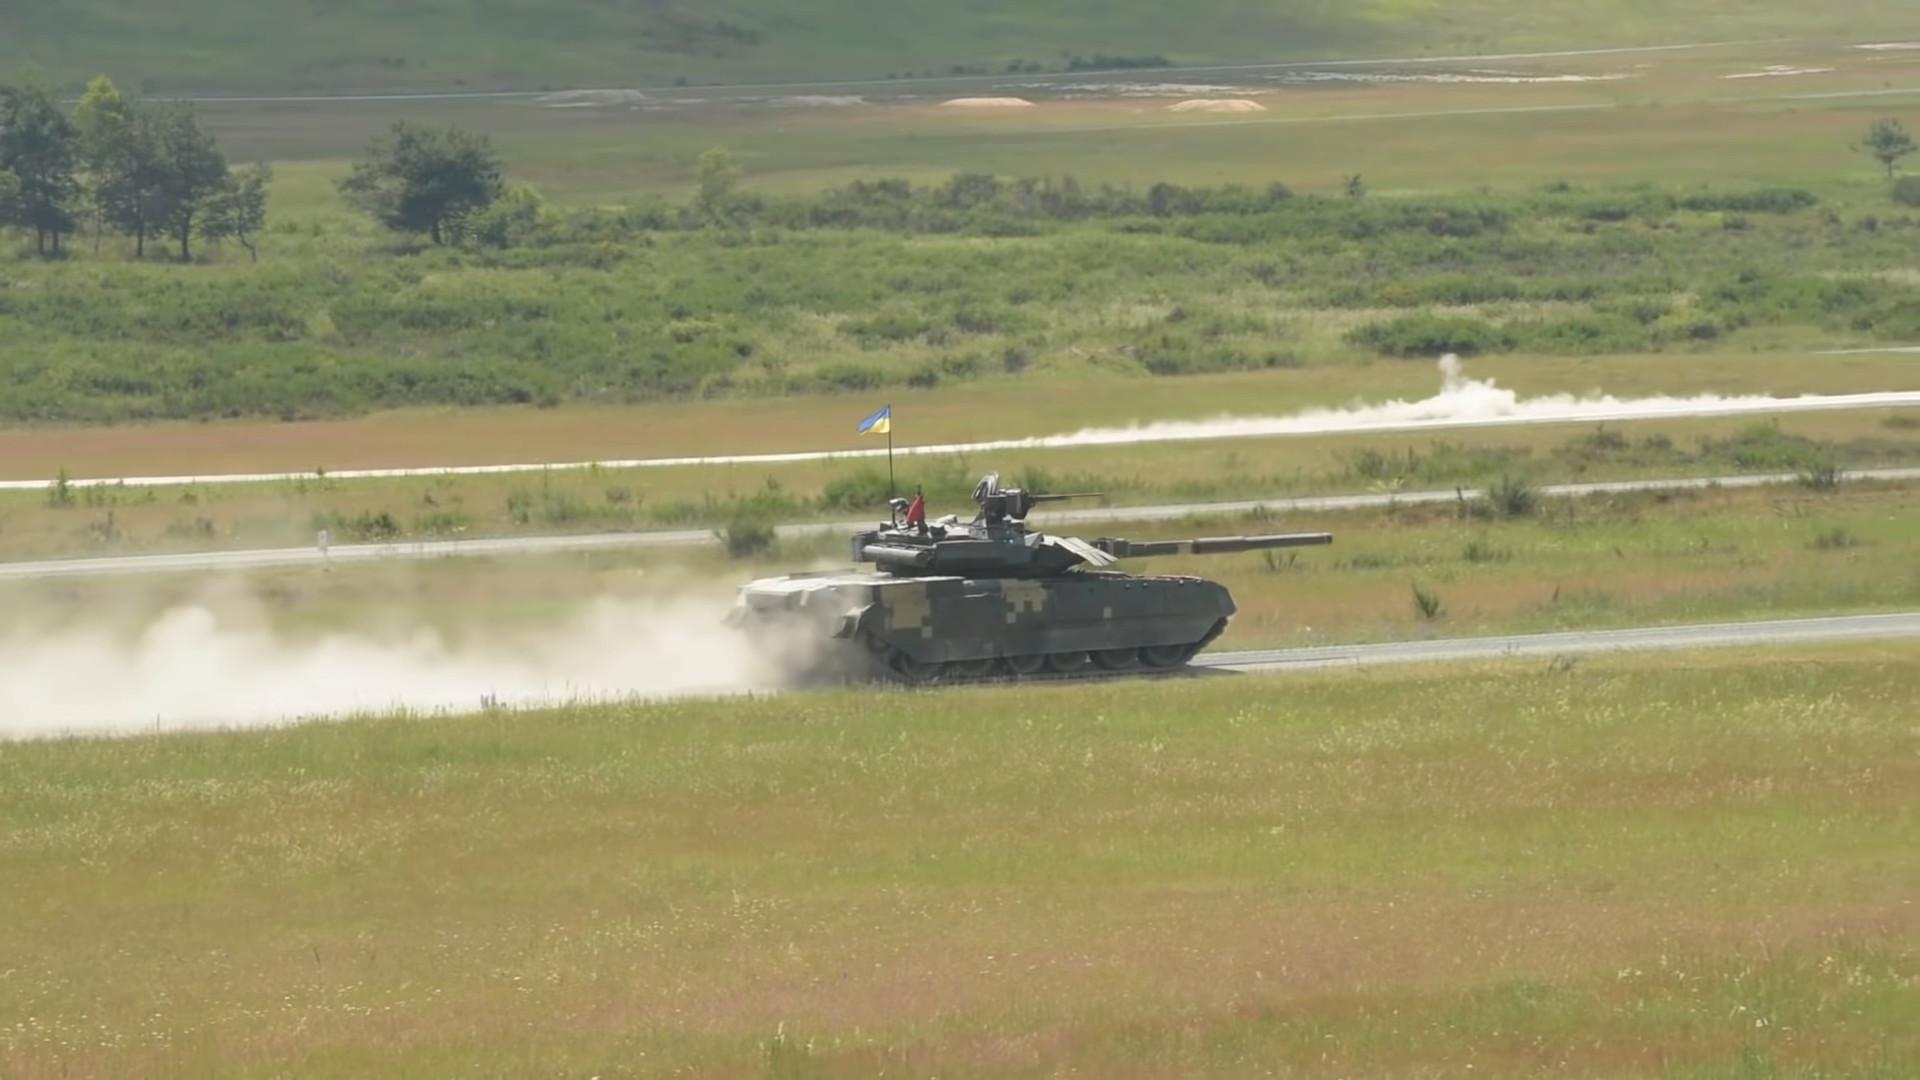tank: (723, 475, 1333, 687)
